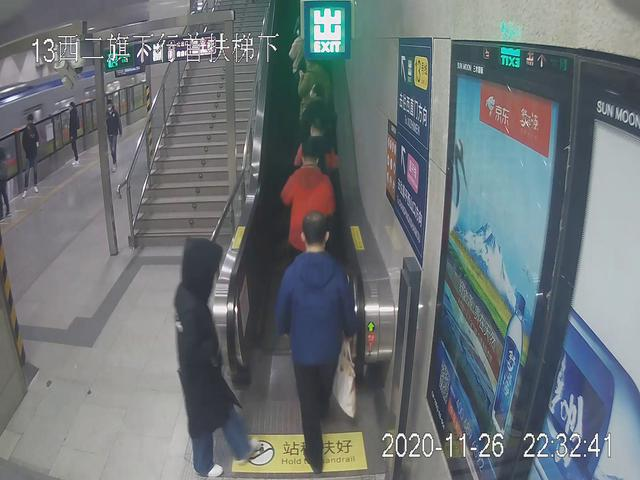person: (172, 238, 263, 476), (277, 211, 352, 472), (280, 145, 338, 300), (20, 113, 47, 200), (99, 100, 123, 171), (66, 102, 86, 166)
